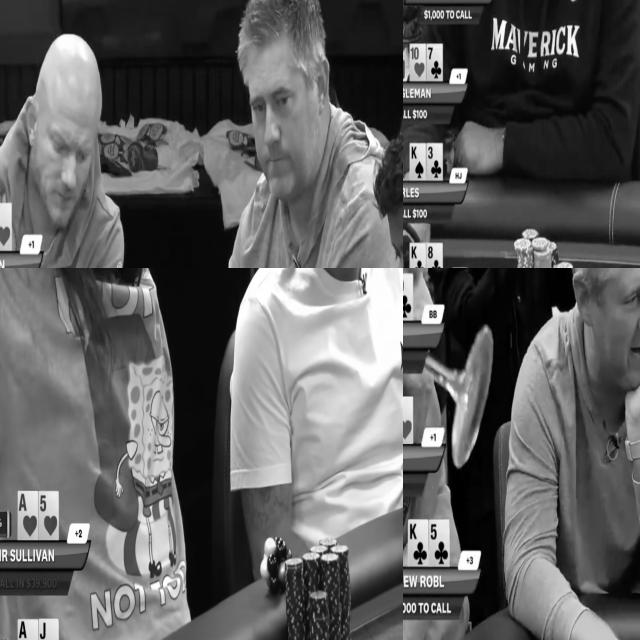10H: (410, 44, 426, 80)
3C: (426, 144, 442, 180)
3H: (0, 202, 11, 250)
5C: (430, 519, 450, 566)
5H: (39, 492, 58, 540)
7C: (426, 43, 442, 82)
8C: (426, 243, 442, 268)
8H: (403, 397, 412, 444)
AH: (18, 491, 38, 540)
AS: (18, 620, 38, 640)
JS: (39, 619, 57, 640)
KC: (409, 519, 428, 566), (409, 243, 426, 268)
KS: (410, 142, 425, 181)
